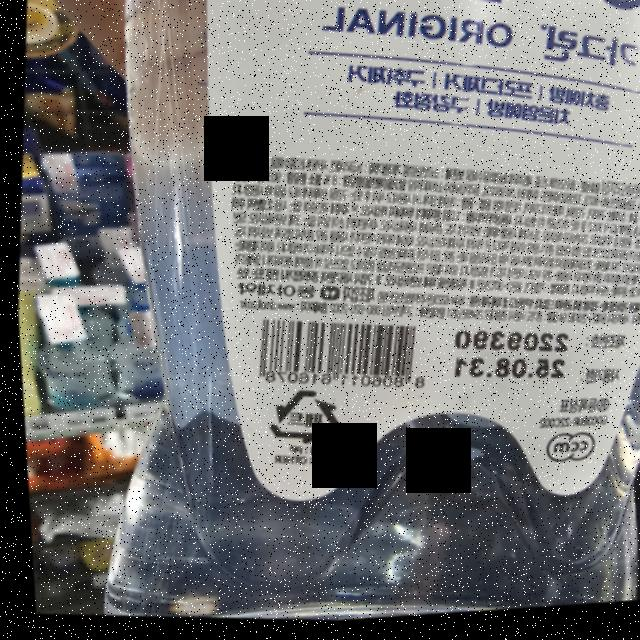PET: (262, 386, 343, 452)
